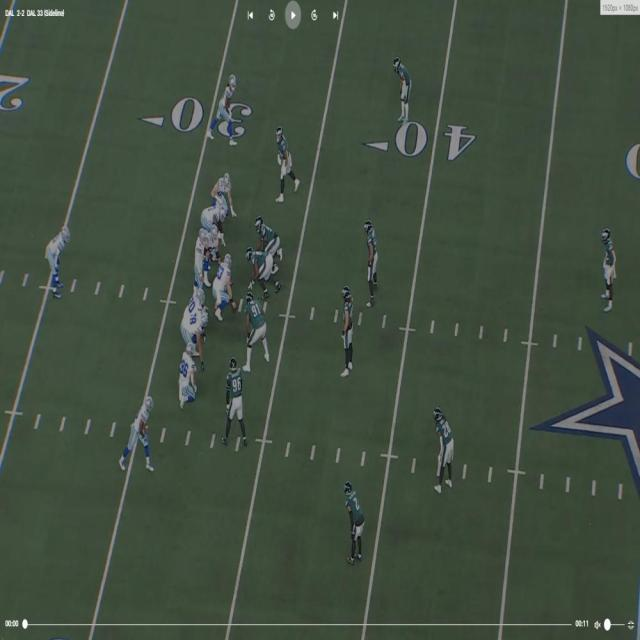center: (216, 256, 238, 319)
db: (438, 410, 457, 493), (346, 482, 364, 567), (393, 58, 411, 126), (602, 228, 616, 304)
lb: (276, 125, 294, 199), (366, 214, 380, 302), (342, 298, 357, 373)
qb: (193, 228, 211, 280)
skill: (126, 394, 156, 463), (218, 72, 242, 133), (50, 228, 69, 297), (214, 172, 238, 221), (181, 343, 196, 403)
